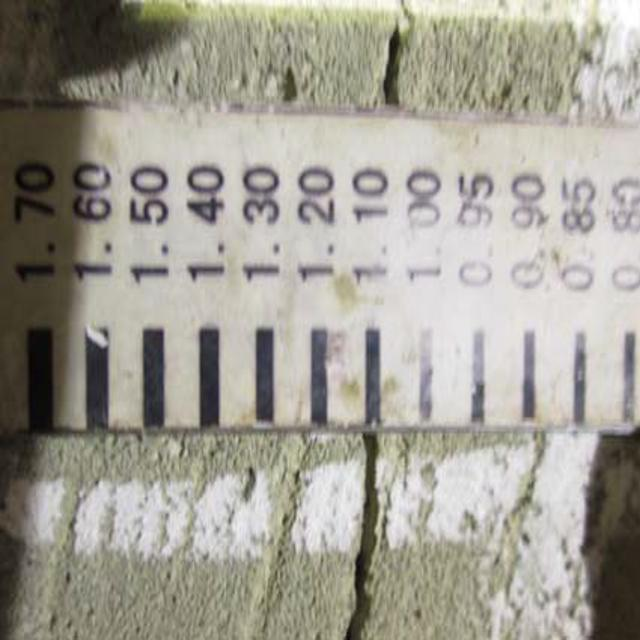crack: (332, 434, 392, 636), (366, 24, 417, 119)
